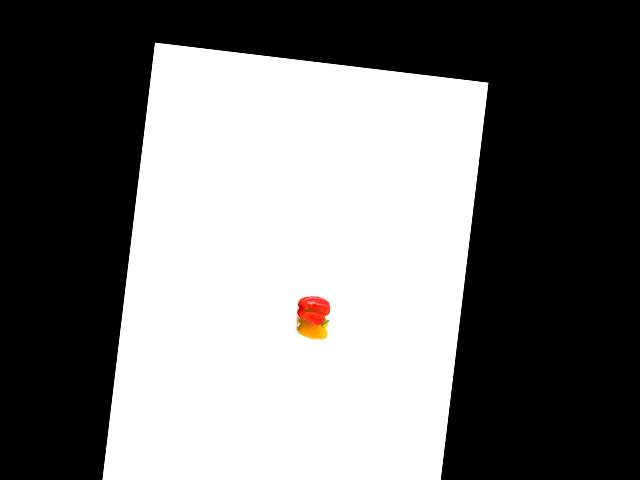bell_pepper: (294, 312, 328, 341)
